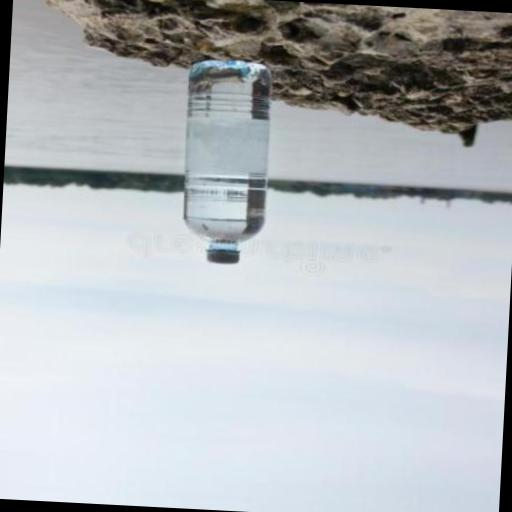Coca: (164, 52, 286, 278)
